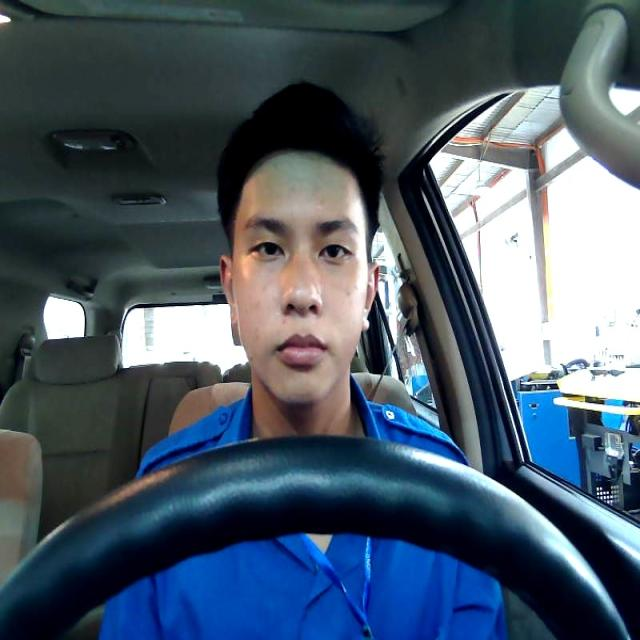focused: (219, 150, 380, 403)
